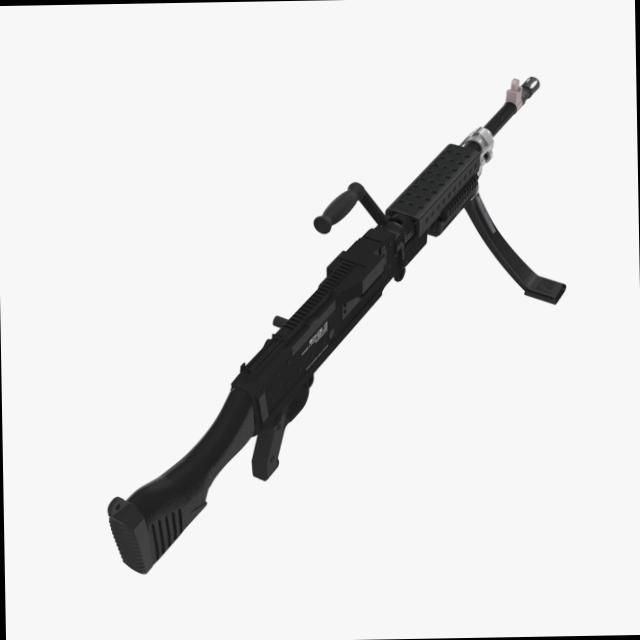Gun: (78, 53, 606, 582)
